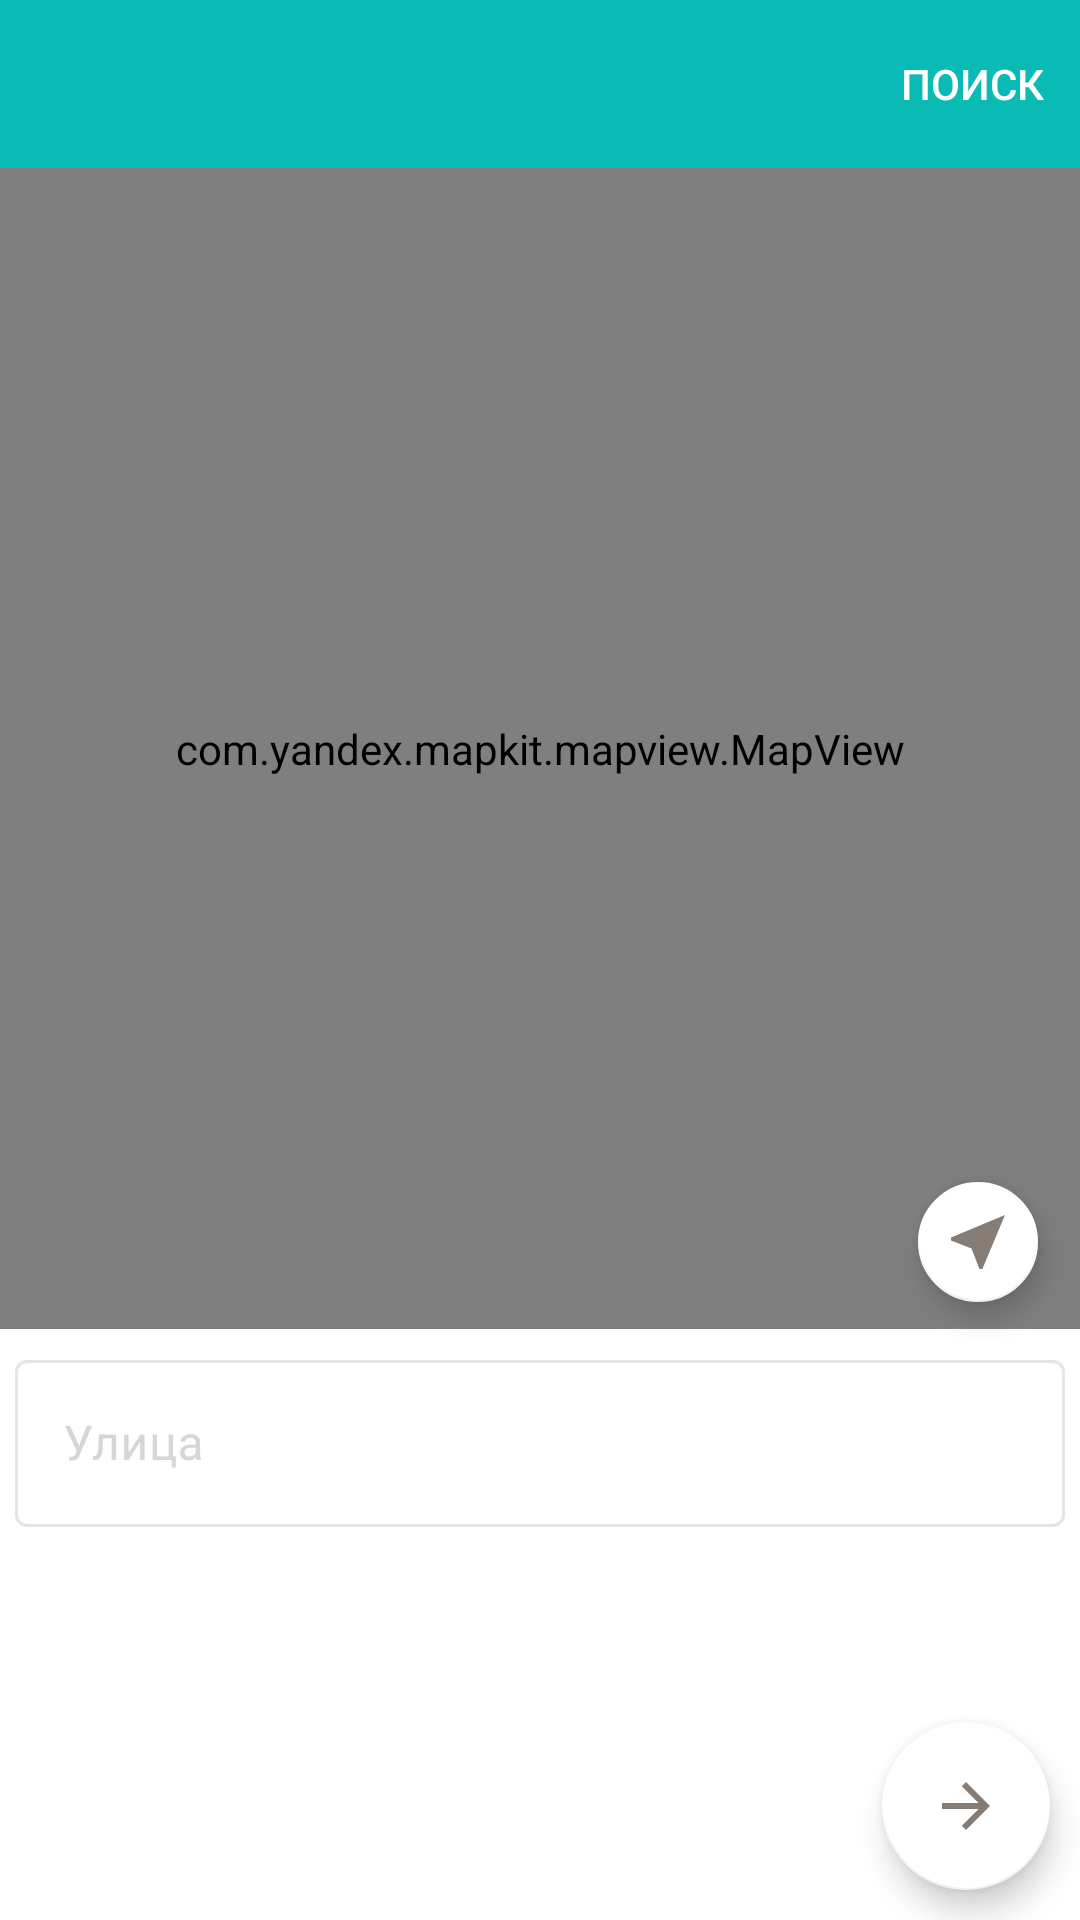

Named icons in this screenshot (1080x1920) and their bounding boxes, (x1, y1, x2, y2):
arrow forward: (888, 1782, 1050, 1890)
near me: (918, 1182, 1038, 1302)
